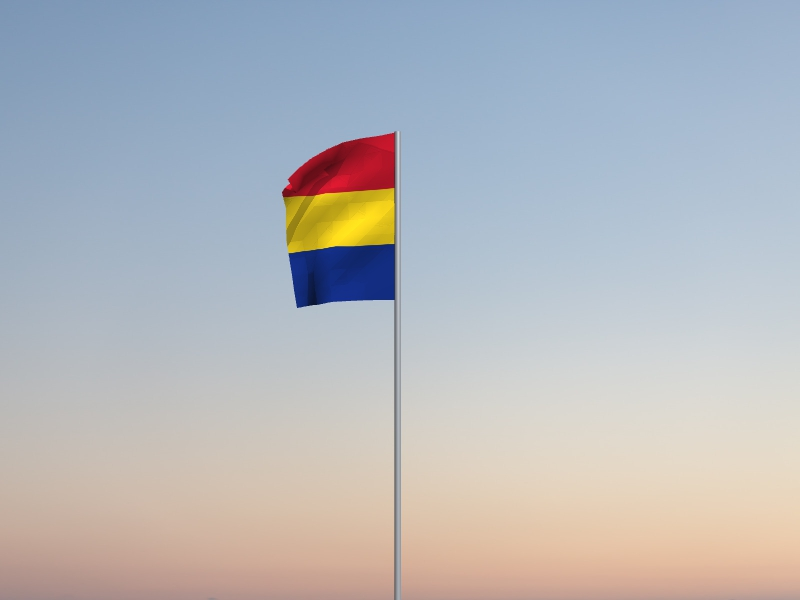ro: (281, 134, 395, 309)
